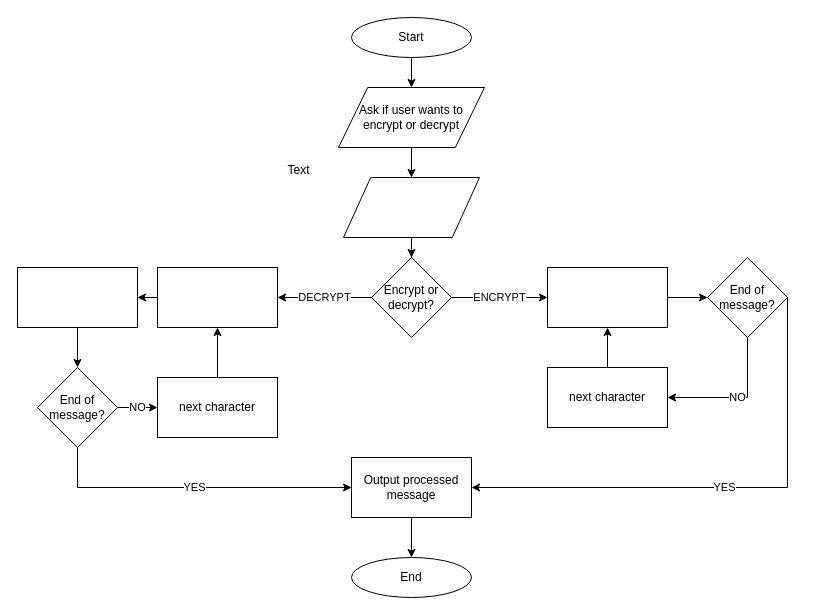
Image size: 813x615. Some labels were removed from this diagram. The shapes that lost their labels are listed below. From the top down, each one's centre as x and y in pixels, then its label:
At pixel 411 207: "Get encryption decryption keys and message".
At pixel 77 297: "(inverseMod * (character - secondKey)) % keyspaceLen".
At pixel 217 297: "inverse mod of character".
At pixel 607 297: "(firstKey * character + secondKey) % keyspaceLen".
